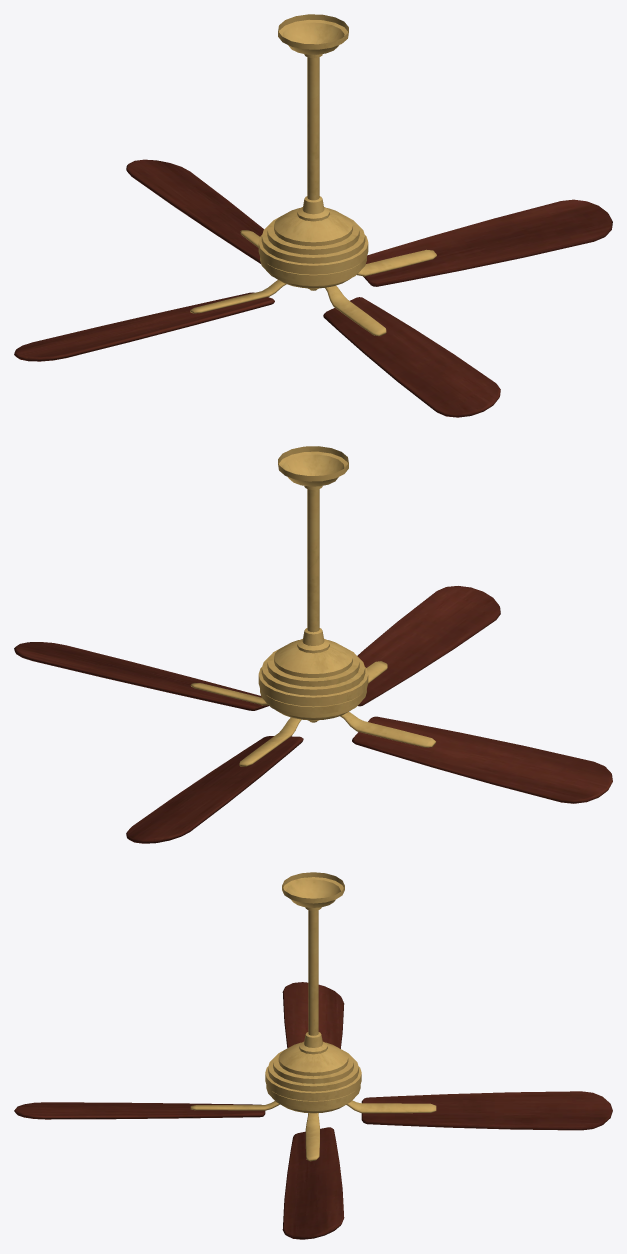
File: CeilingFan.glb
The picture shows the model from 3 angles, top to bottom: view 1: azimuth 30°, elevation 25°; view 2: azimuth 150°, elevation 25°; view 3: azimuth 270°, elevation 25°; orthographic projection. The views are drawn at different scales.
Visible parts, largest first — view 1: CeilingFan_Blades, CeilingFan_Body, CeilingFan_Rotor; view 2: CeilingFan_Blades, CeilingFan_Body, CeilingFan_Rotor; view 3: CeilingFan_Blades, CeilingFan_Body, CeilingFan_Rotor.
Boxes of the visible parts, x1,y1,x2,y2 form: CeilingFan_Blades: (14,159,612,417); CeilingFan_Body: (258,14,368,274); CeilingFan_Rotor: (190,230,436,336); CeilingFan_Blades: (14,586,612,843); CeilingFan_Body: (258,446,368,706); CeilingFan_Rotor: (190,661,435,766); CeilingFan_Blades: (14,982,612,1239); CeilingFan_Body: (265,872,361,1100); CeilingFan_Rotor: (190,1085,436,1161).
Bounding box in the file's own units: 1.24 × 0.5317 × 1.24.
2 materials, 2 textured.
